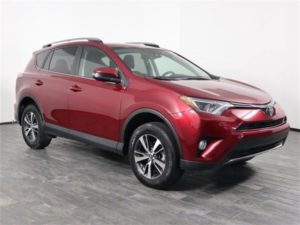Toyota RAV-4: (12, 40, 291, 191)
